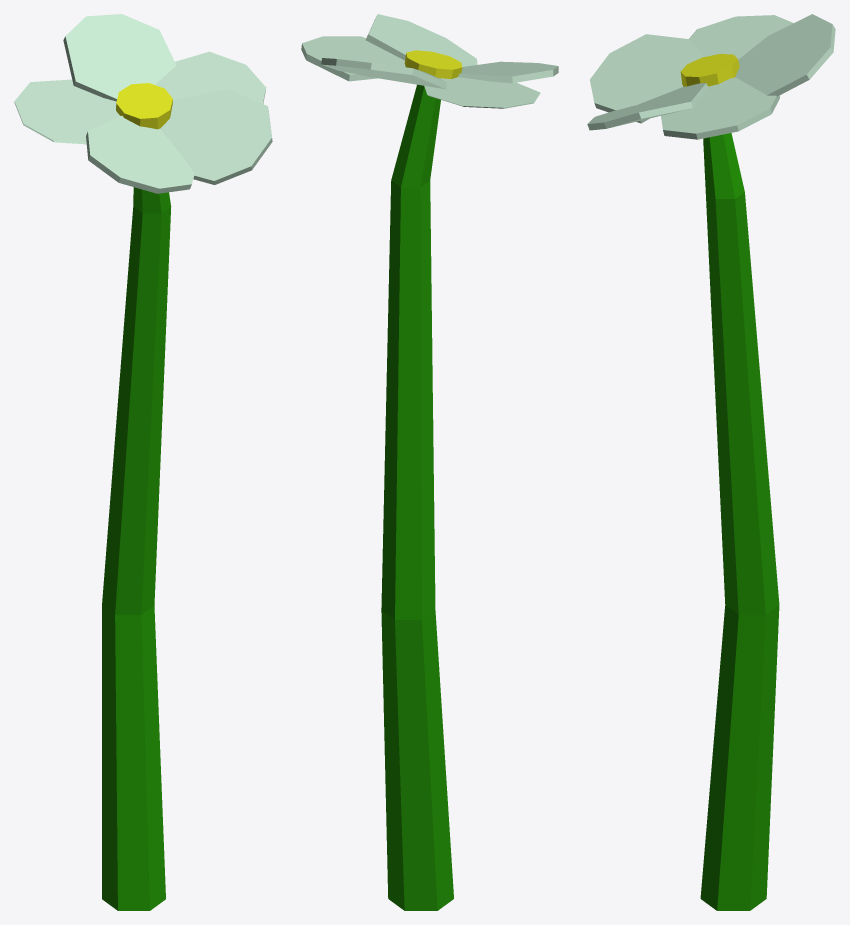
The model's file is Flower.fbx.
The picture shows the model from 3 angles, left to right: view 1: azimuth 30°, elevation 25°; view 2: azimuth 150°, elevation 25°; view 3: azimuth 270°, elevation 25°; orthographic projection. The views are drawn at different scales.
Visible parts, largest first — view 1: flower1; view 2: flower1; view 3: flower1.
Boxes of the visible parts, x1=… form: flower1: x1=14, y1=14, x2=272, y2=910; flower1: x1=301, y1=14, x2=558, y2=910; flower1: x1=587, y1=14, x2=835, y2=910.
Bounding box in the file's own units: 16.31 × 58.98 × 15.17.
